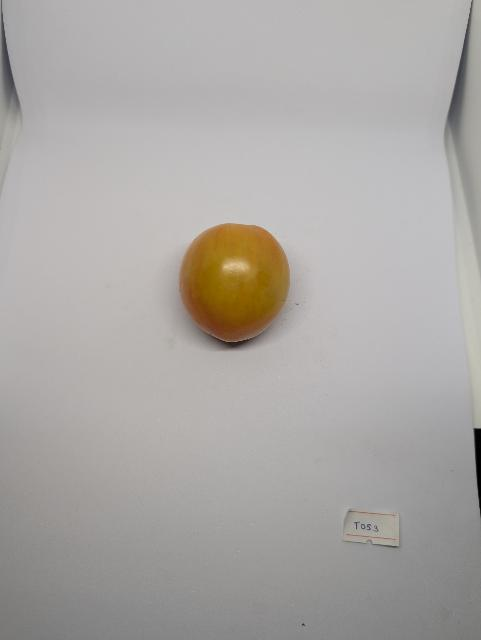turning: (155, 216, 313, 360)
